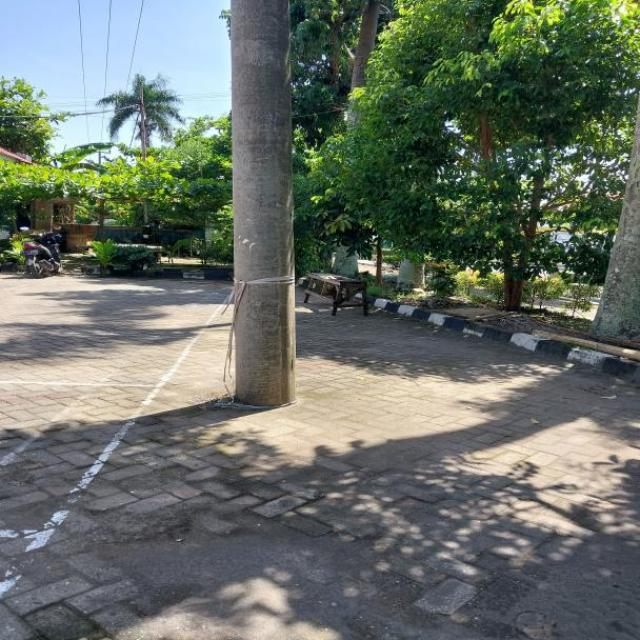tree ahead at: (220, 1, 306, 413)
